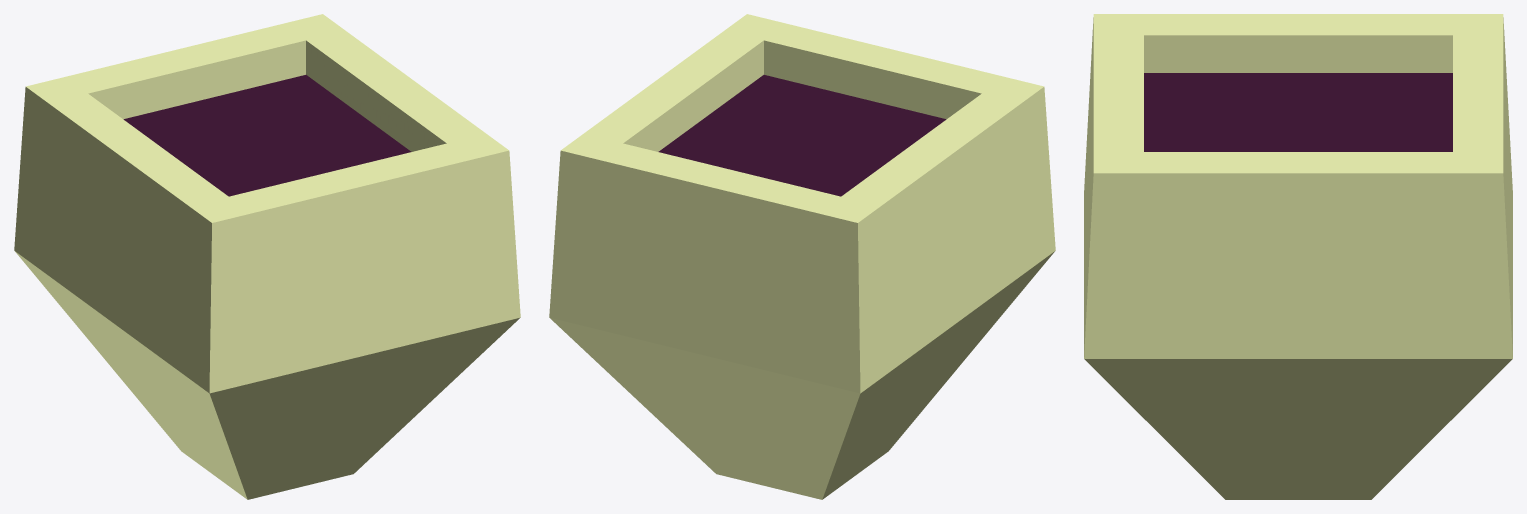
The model's file is VasoPlanta1.fbx.
3 renders of one model, left to right at view 1: azimuth 30°, elevation 25°; view 2: azimuth 150°, elevation 25°; view 3: azimuth 270°, elevation 25°, orthographic. The views are drawn at different scales.
Visible parts, largest first — view 1: VasoPlanta1; view 2: VasoPlanta1; view 3: VasoPlanta1.
Part boxes in pixels (box(x1,y1,x2,y2)): VasoPlanta1: box(14, 14, 520, 499); VasoPlanta1: box(549, 14, 1055, 499); VasoPlanta1: box(1084, 14, 1512, 499).
Bounding box in the file's own units: 0.5917 × 0.6252 × 0.643.
